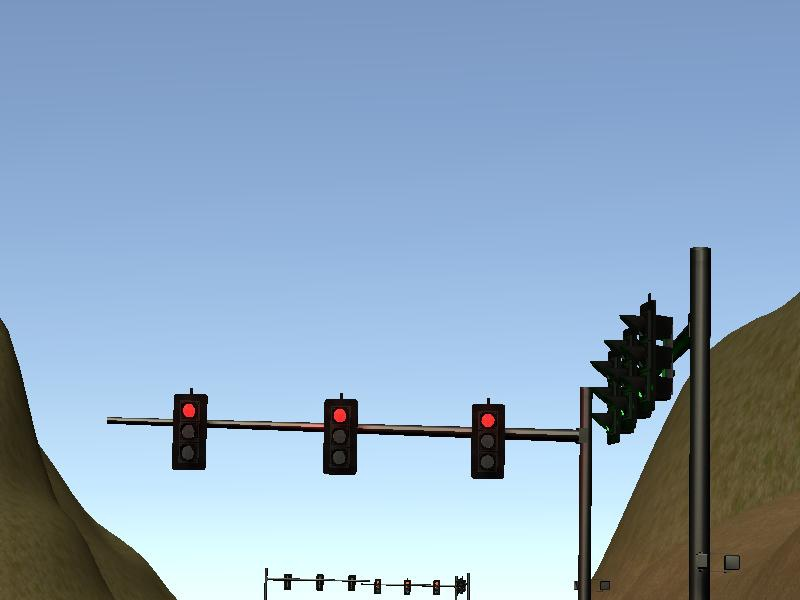Red: (170, 391, 209, 472), (320, 396, 359, 477), (468, 402, 507, 483)
